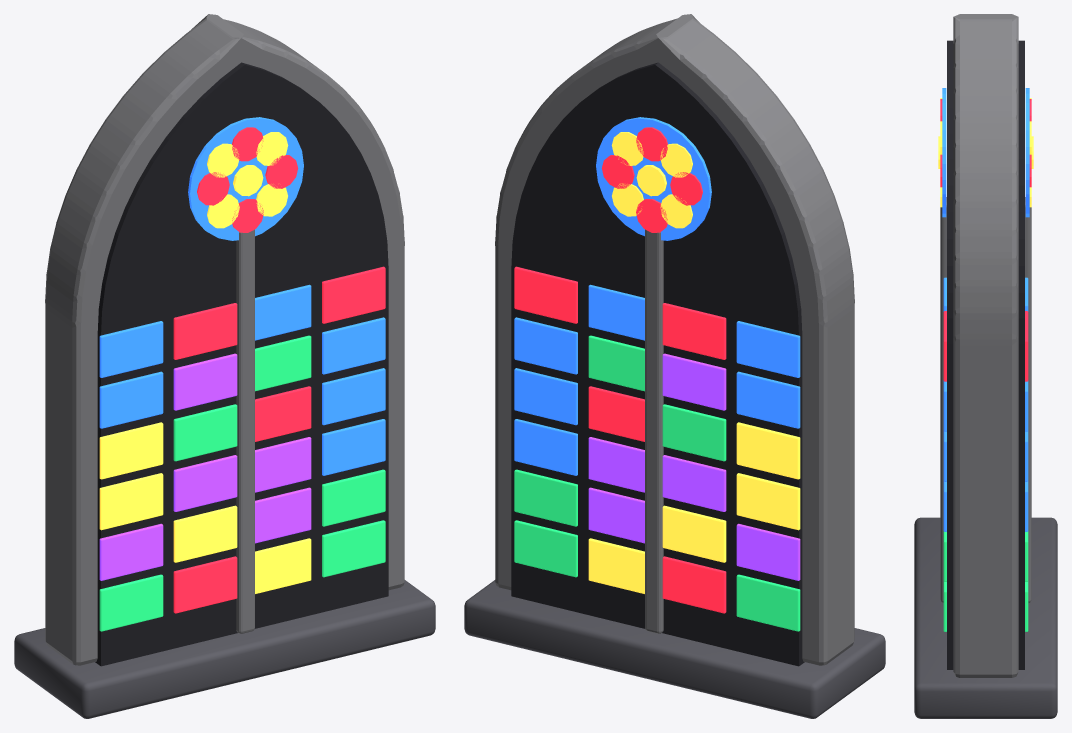
Rendered from vidriera.glb.
3 views of the same model, side by side, from view 1: azimuth 30°, elevation 25°; view 2: azimuth 150°, elevation 25°; view 3: azimuth 270°, elevation 25° (orthographic).
Parts seen in each view (by area): view 1: vidrio, marco, base, parteluz, roseton-0, panel00, panel04, panel05, panel11, panel15, panel10, panel12 (+26 smaller); view 2: vidrio, marco, base, parteluz, roseton0, panel_b00, panel_b04, panel_b05, panel_b11, panel_b15, panel_b10, panel_b12 (+26 smaller); view 3: marco, base, vidrio, parteluz, roseton0, roseton-0, panel35, panel_b35.
Boxes of the visible parts, bbox=[...] form: vidrio: bbox=[95, 62, 388, 666]; marco: bbox=[45, 14, 404, 665]; base: bbox=[14, 580, 435, 718]; parteluz: bbox=[236, 229, 254, 633]; roseton-0: bbox=[188, 117, 303, 240]; panel00: bbox=[99, 574, 163, 631]; panel04: bbox=[99, 371, 163, 428]; panel05: bbox=[99, 321, 163, 377]; panel11: bbox=[173, 505, 237, 562]; panel15: bbox=[173, 303, 237, 359]; panel10: bbox=[173, 556, 237, 613]; panel12: bbox=[173, 455, 237, 511]; vidrio: bbox=[511, 62, 804, 666]; marco: bbox=[495, 14, 854, 665]; base: bbox=[464, 580, 885, 718]; parteluz: bbox=[645, 229, 663, 633]; roseton0: bbox=[596, 117, 711, 240]; panel_b00: bbox=[736, 574, 800, 631]; panel_b04: bbox=[736, 371, 800, 428]; panel_b05: bbox=[736, 321, 800, 377]; panel_b11: bbox=[662, 505, 726, 562]; panel_b15: bbox=[662, 303, 726, 359]; panel_b10: bbox=[662, 556, 726, 613]; panel_b12: bbox=[662, 455, 726, 511]; marco: bbox=[953, 14, 1018, 677]; base: bbox=[914, 517, 1057, 718]; vidrio: bbox=[947, 40, 1024, 669]; parteluz: bbox=[940, 197, 1031, 602]; roseton0: bbox=[1025, 88, 1029, 217]; roseton-0: bbox=[942, 88, 946, 217]; panel35: bbox=[943, 311, 946, 381]; panel_b35: bbox=[1025, 311, 1028, 381].
Size of the model in its own units: 0.62 by 1.05 by 0.22.
